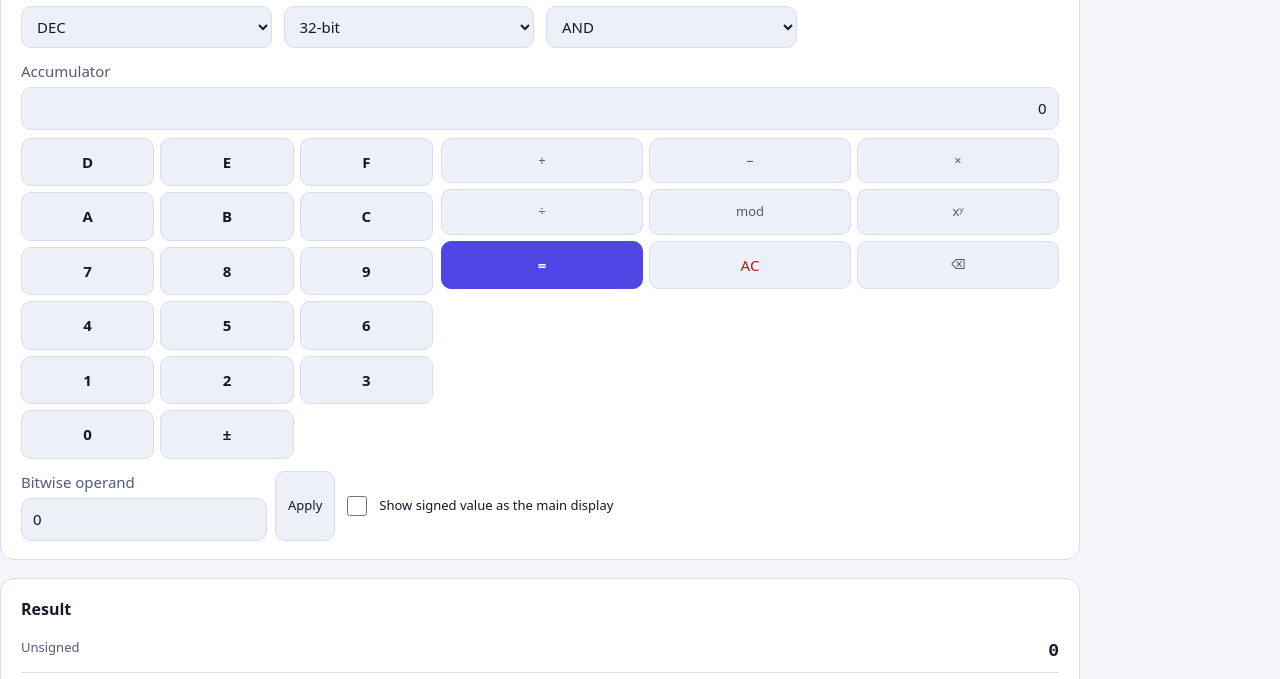
programmer panel › shows the value in every base at once
Replace the text in the field named "Integer input" with "255": (540, 108) [21, 87, 1059, 130]
(page scrolled)
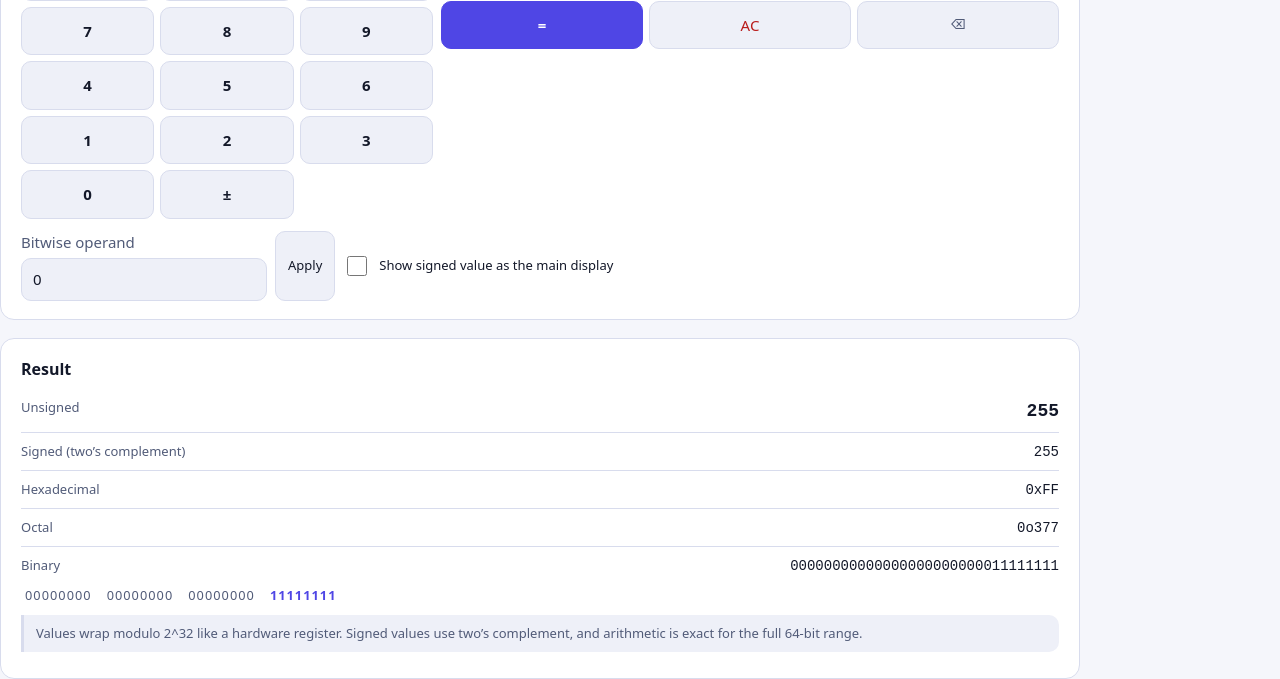
Expected: the text "255" in the row of "Unsigned" is shown, [1027, 400, 1059, 420]
Expected: the text "0xFF" is shown, [1025, 482, 1059, 498]
Expected: the text "0o377" is shown, [1017, 520, 1059, 536]
